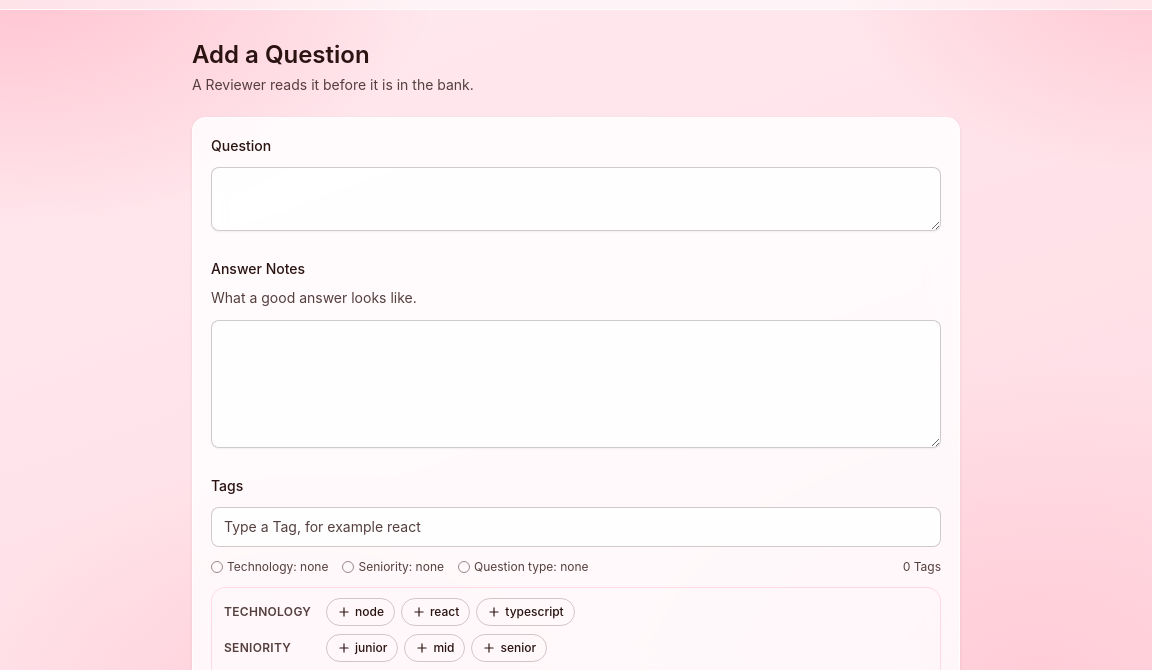
Test: naming a new Question's Clients › shows the API's refusal of a Client in the API's own words
The width and height of the screenshot is (1152, 670).
Step 1. Type "How would you migrate it?" into the text box labelled "Question" → (576, 199), box [211,167,941,231]
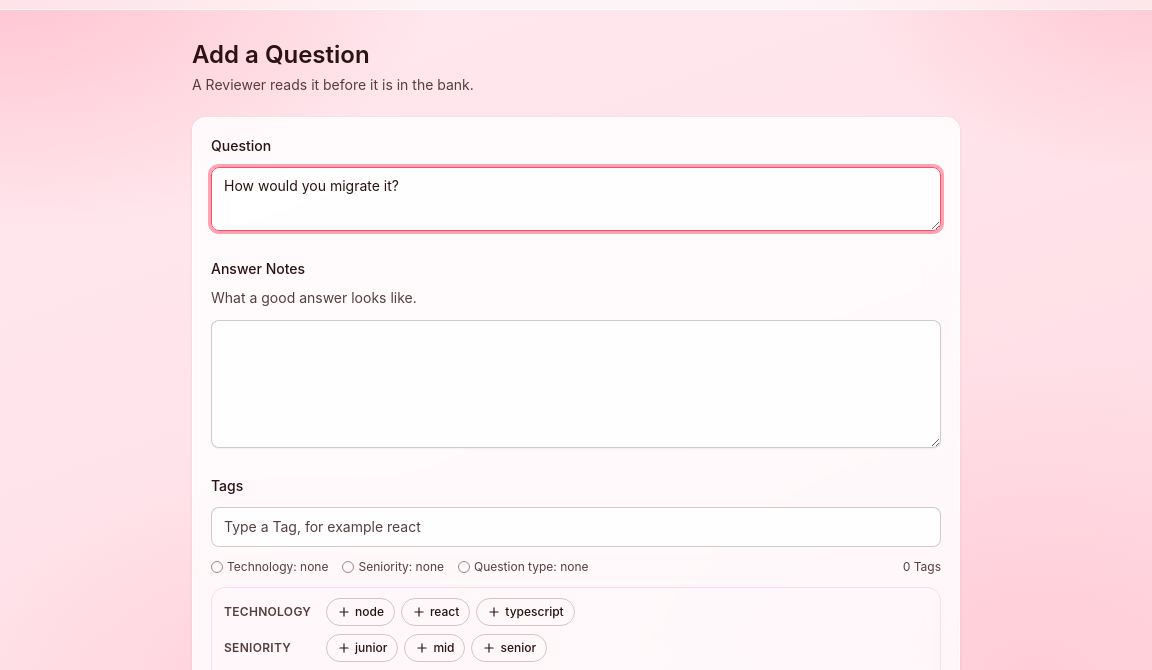
Step 2. Type "Move one report at a time." into the text box labelled "Answer Notes" → (576, 384), box [211,320,941,448]
(page scrolled)
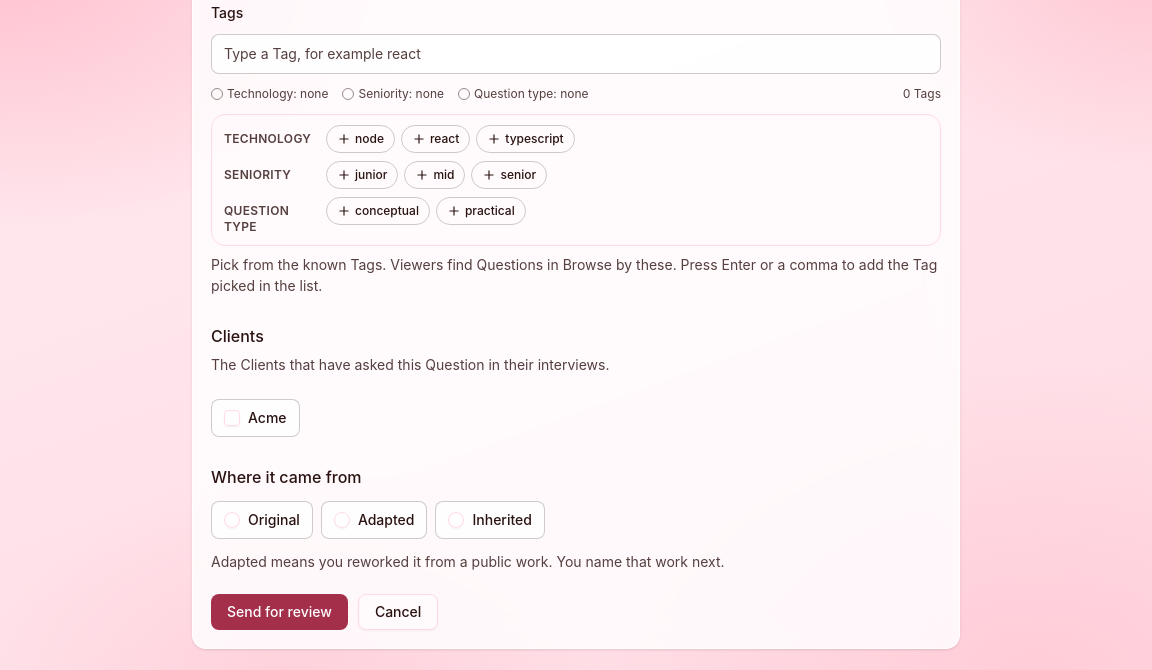
Step 3. Click the radio button named "Original" next to "Original" → (232, 520), box [224,512,240,528]
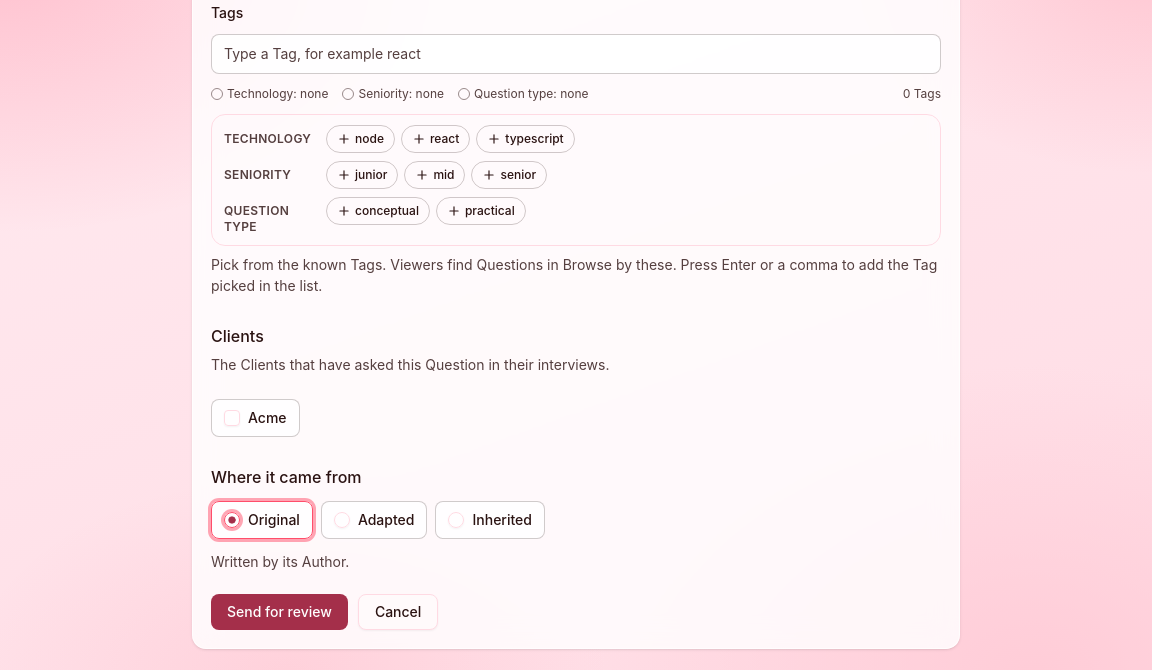
Step 4. Click the checkbox named "Acme" → (232, 418), box [224,410,240,426]
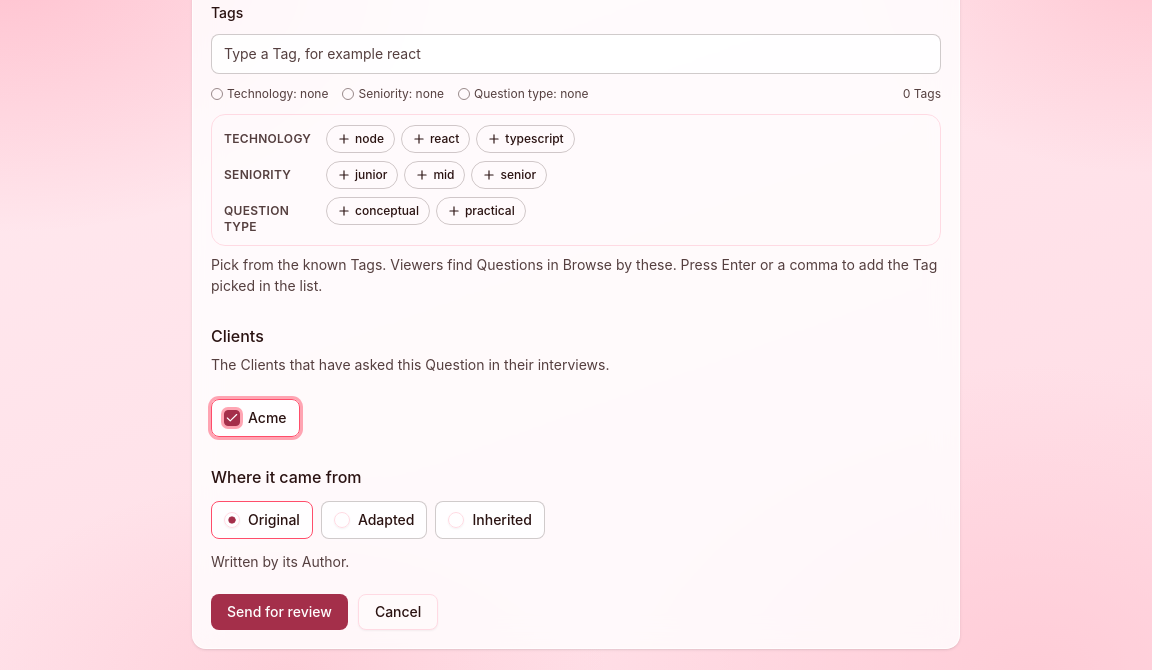
Step 5. Click the button "Send for review" → (279, 612), box [211,594,348,630]
(page scrolled)
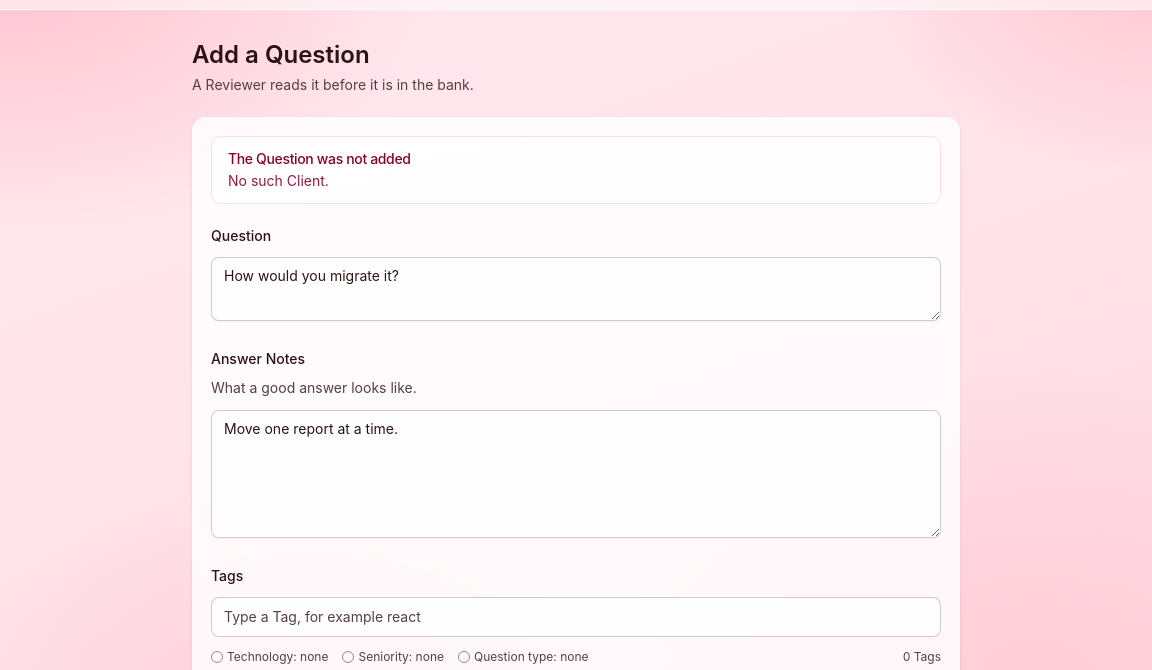
Result: the message shows "The Question was not added" at [228,150,411,167]
Result: the message shows "No such Client." at [228,172,329,189]
